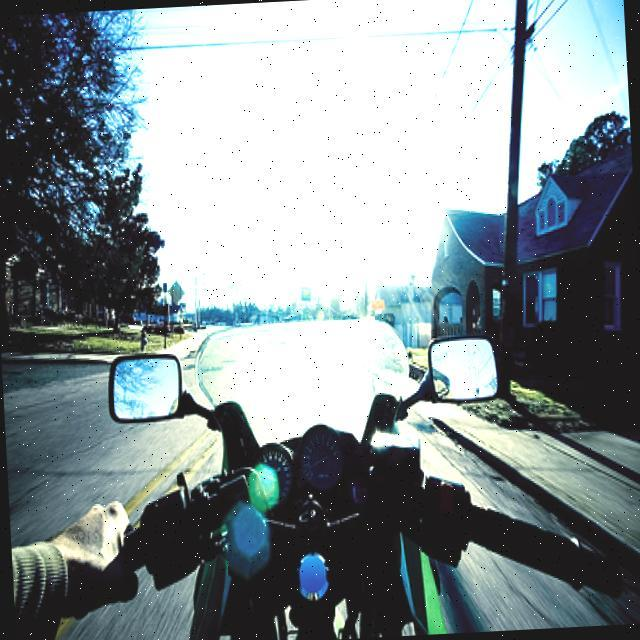fire_hydrant: (138, 328, 147, 349)
